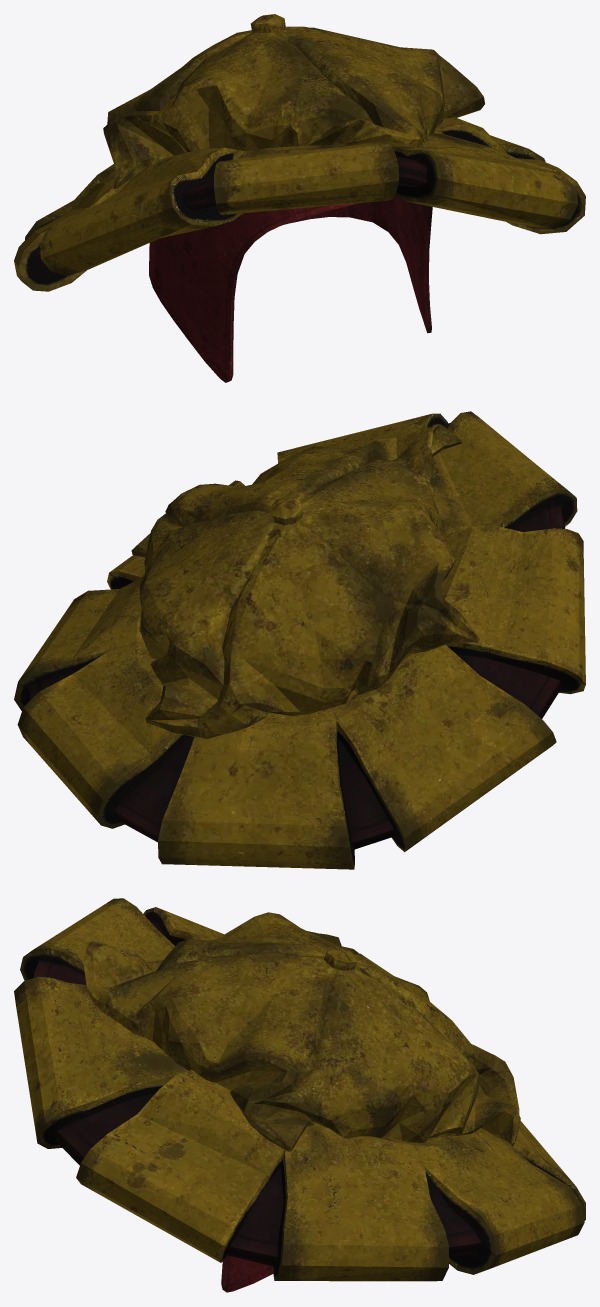
File: KAPELUSZ_BOGACZA.glb
3 renders of one model, top to bottom at view 1: azimuth 30°, elevation 25°; view 2: azimuth 150°, elevation 25°; view 3: azimuth 270°, elevation 25°, orthographic. The views are drawn at different scales.
Visible parts, largest first — view 1: KAPELUSZ_BOGACZA; view 2: KAPELUSZ_BOGACZA; view 3: KAPELUSZ_BOGACZA.
Part boxes in pixels (<box>): KAPELUSZ_BOGACZA: <box>14,14,585,382</box>; KAPELUSZ_BOGACZA: <box>14,411,585,869</box>; KAPELUSZ_BOGACZA: <box>14,898,585,1292</box>.
Bounding box in the file's own units: 0.441 × 0.2449 × 0.4298.
1 material, 1 textured.
